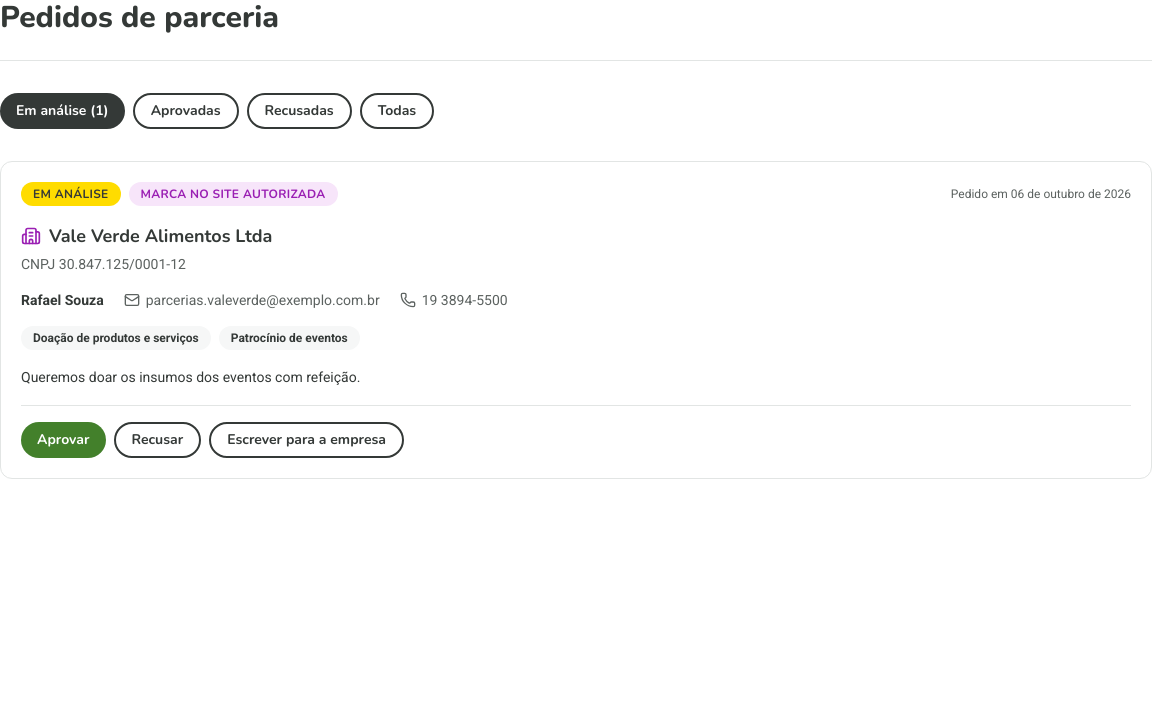
parcerias no painel › aprova o pedido com um recado opcional, e diz que a marca entra na rede
expect the heading "Vale Verde Alimentos Ltda" is shown: met, box left=21, top=224, right=272, bottom=248
expect the text "CNPJ 30.847.125/0001-12" is shown: met, box left=21, top=256, right=186, bottom=272
Click the button "Aprovar": coordinates (63, 440) left=21, top=422, right=106, bottom=458
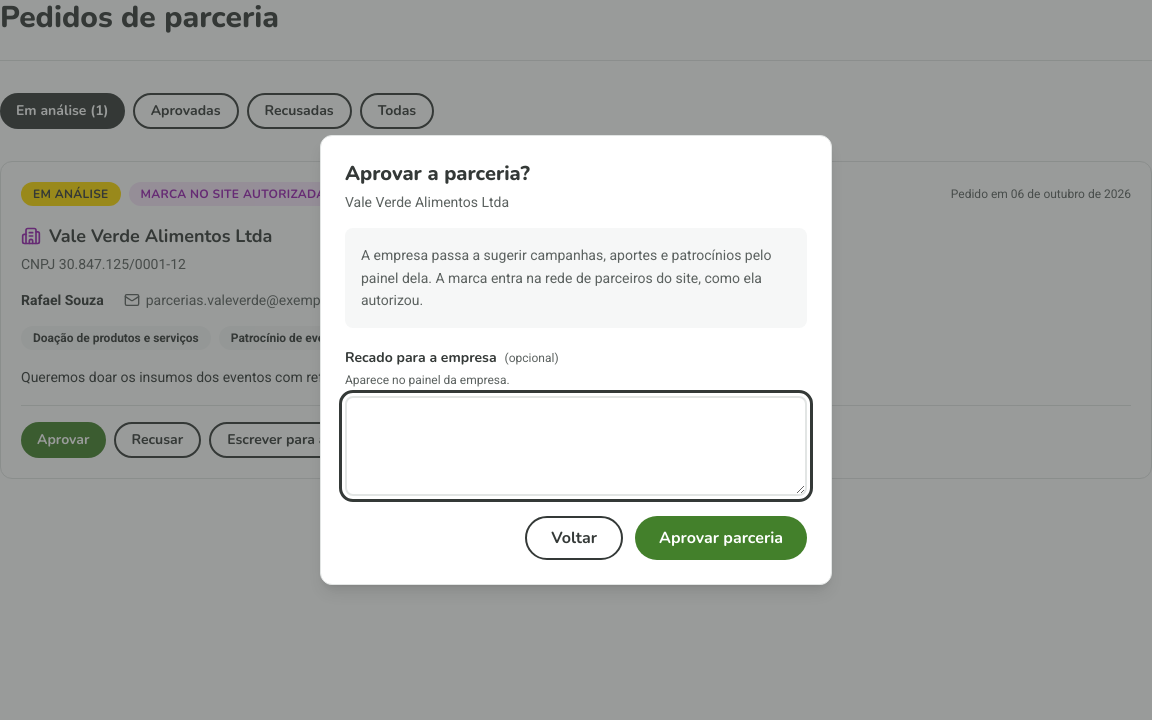
expect the text "a marca entra na rede de parceiros do site" is shown: met, box left=361, top=247, right=772, bottom=308
Click the button "Aprovar parceria": coordinates (721, 538) left=635, top=516, right=807, bottom=560
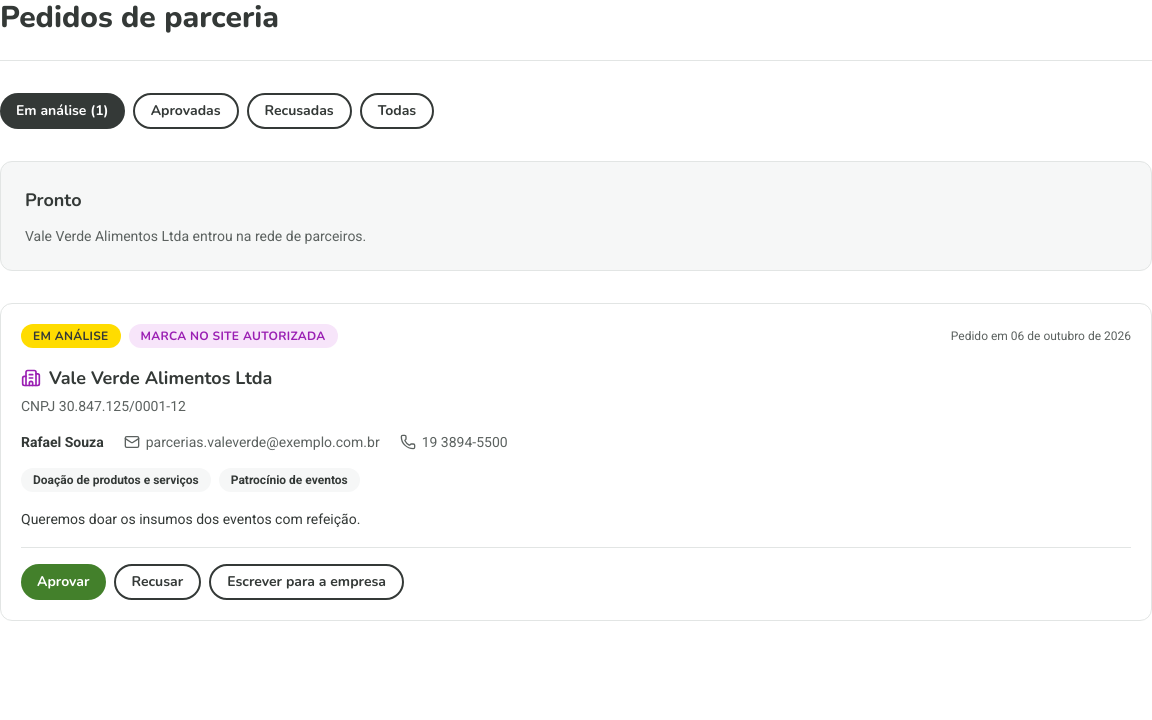
expect the text "Vale Verde Alimentos Ltda entrou na rede de parceiros." is shown: met, box left=25, top=226, right=366, bottom=246
